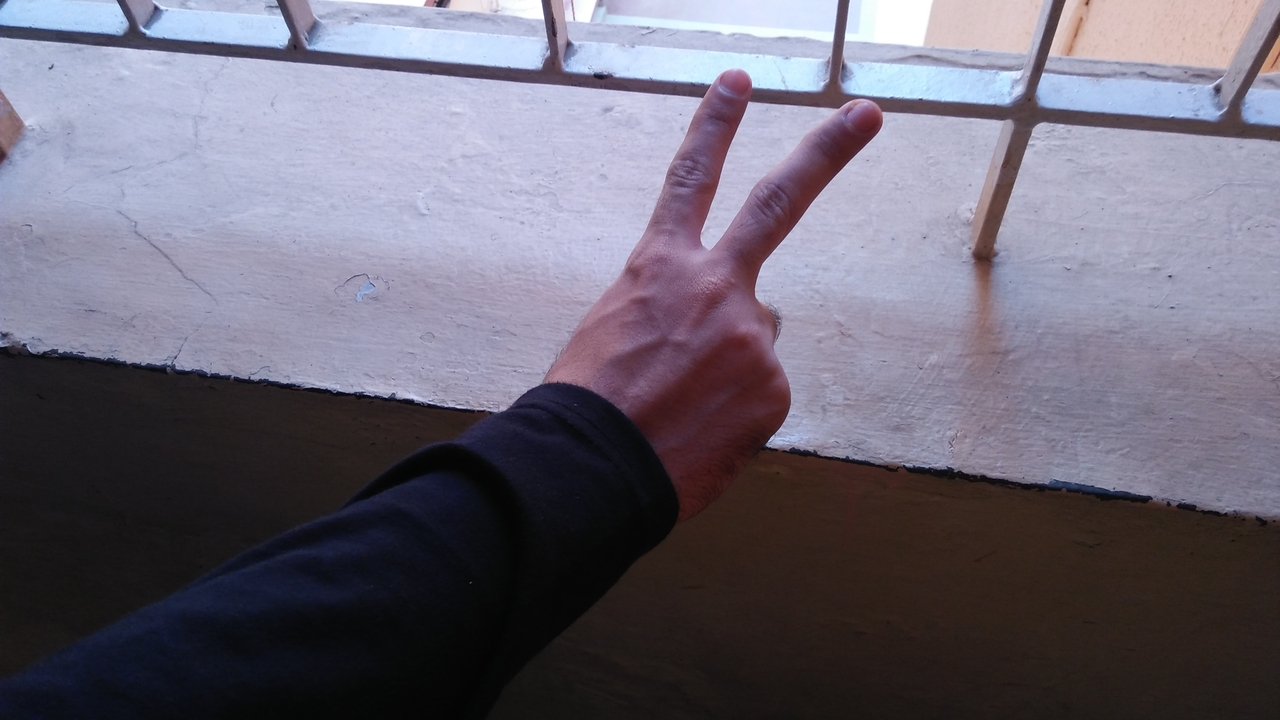fingertip: (834, 84, 890, 138), (702, 58, 756, 108)
